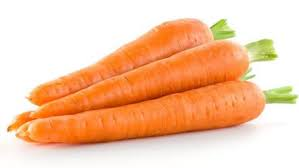carrot: (14, 43, 263, 123), (17, 15, 211, 105), (16, 86, 280, 141)
